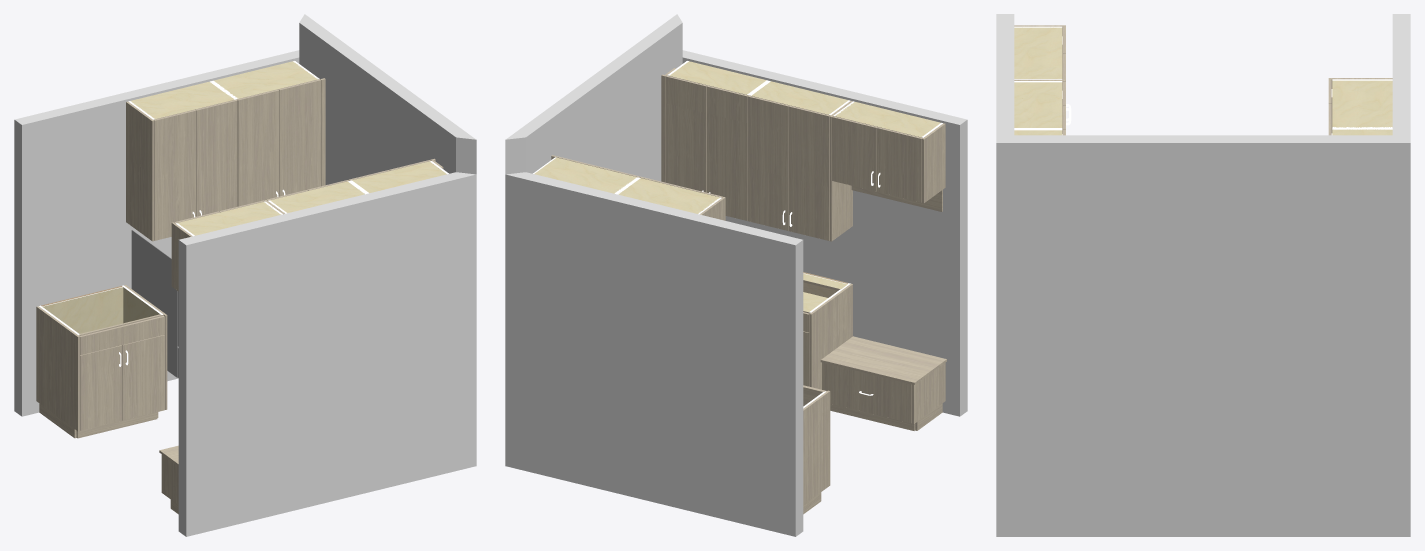
3 views of the same model, side by side, from view 1: azimuth 30°, elevation 25°; view 2: azimuth 150°, elevation 25°; view 3: azimuth 270°, elevation 25° (orthographic). The views are drawn at different scales.
Parts seen in each view (by area): view 1: N_WALL-Sh8bf10af0_Wall_Wall_Room_184a, N_WALL-Sh8bf10a00_Wall_Wall_Room_1a, N_WALL-Sh8bf12620_Wall_Wall_Room_183a, N_S_DSLAB-Sh80b18180_Door_Door_158b, N_S_DSLAB-Sh80b14220_Door_Door_105b, N_S_DSLAB-Sh80b1fd00_Door_Door_171b, N_S_DSLAB-Sh80b18db0_Door_Door_118b, N_LF-Sh80b1aaf0_Base_Cabinet_Assembly_9b, N_S_APPLIANCE-Sh96dc83f0_Appliance_WasherDryer_Room_66a, N_LF-Sh80b1d1f0_Upper_Cabinet_Assembly_133b, N_S_DSLAB-Sh80b13e10_Door_Door_41b, N_S_DSLAB-Sh80b15c20_Door_Door_54b (+11 smaller); view 2: N_WALL-Sh8bf10a00_Wall_Wall_Room_1a, N_WALL-Sh8bf10af0_Wall_Wall_Room_184a, N_WALL-Sh8bf12620_Wall_Wall_Room_183a, N_S_DSLAB-Sh80b3b080_Door_Door_523b, N_S_DSLAB-Sh80b387e0_Door_Door_510b, N_S_DSLAB-Sh80b34950_Door_Door_470b, N_S_DSLAB-Sh80b2d5f0_Door_Door_457b, N_S_DSLAB-Sh80b2f8e0_Door_Door_389b, N_TO-Sh7bd992a0_Base_Cabinet_Assembly_426b, N_S_DSLAB-Sh80b27d60_Door_Door_349b, N_S_DSLAB-Sh80b2dc70_Door_Door_362b, N_LF-Sh80b1aaf0_Base_Cabinet_Assembly_9b (+11 smaller); view 3: N_WALL-Sh8bf12620_Wall_Wall_Room_183a, N_TO-Sh80b1d050_Upper_Cabinet_Assembly_142a, N_TO-Sh80b35cd0_Upper_Cabinet_Assembly_338a, N_WALL-Sh8bf10a00_Wall_Wall_Room_1a, N_WALL-Sh8bf10af0_Wall_Wall_Room_184a, N_TO-Sh80b44050_Upper_Cabinet_Assembly_494a.
Part boxes in pixels (x1,y1,x2,y2): N_WALL-Sh8bf10af0_Wall_Wall_Room_184a: [178, 172, 476, 536]; N_WALL-Sh8bf10a00_Wall_Wall_Room_1a: [14, 50, 299, 416]; N_WALL-Sh8bf12620_Wall_Wall_Room_183a: [299, 14, 476, 184]; N_S_DSLAB-Sh80b18180_Door_Door_158b: [155, 111, 195, 240]; N_S_DSLAB-Sh80b14220_Door_Door_105b: [238, 90, 279, 206]; N_S_DSLAB-Sh80b1fd00_Door_Door_171b: [196, 100, 237, 216]; N_S_DSLAB-Sh80b18db0_Door_Door_118b: [280, 80, 320, 196]; N_LF-Sh80b1aaf0_Base_Cabinet_Assembly_9b: [36, 306, 79, 431]; N_S_APPLIANCE-Sh96dc83f0_Appliance_WasherDryer_Room_66a: [131, 229, 178, 377]; N_LF-Sh80b1d1f0_Upper_Cabinet_Assembly_133b: [126, 101, 154, 240]; N_S_DSLAB-Sh80b13e10_Door_Door_41b: [80, 345, 122, 430]; N_S_DSLAB-Sh80b15c20_Door_Door_54b: [123, 335, 164, 420]; N_WALL-Sh8bf10a00_Wall_Wall_Room_1a: [505, 172, 803, 536]; N_WALL-Sh8bf10af0_Wall_Wall_Room_184a: [682, 50, 967, 416]; N_WALL-Sh8bf12620_Wall_Wall_Room_183a: [505, 14, 682, 181]; N_S_DSLAB-Sh80b3b080_Door_Door_523b: [788, 106, 828, 240]; N_S_DSLAB-Sh80b387e0_Door_Door_510b: [748, 96, 787, 230]; N_S_DSLAB-Sh80b34950_Door_Door_470b: [707, 86, 747, 220]; N_S_DSLAB-Sh80b2d5f0_Door_Door_457b: [666, 76, 706, 192]; N_S_DSLAB-Sh80b2f8e0_Door_Door_389b: [822, 362, 911, 423]; N_TO-Sh7bd992a0_Base_Cabinet_Assembly_426b: [820, 336, 946, 384]; N_S_DSLAB-Sh80b27d60_Door_Door_349b: [832, 117, 876, 191]; N_S_DSLAB-Sh80b2dc70_Door_Door_362b: [877, 128, 921, 202]; N_LF-Sh80b1aaf0_Base_Cabinet_Assembly_9b: [803, 390, 830, 504]; N_WALL-Sh8bf12620_Wall_Wall_Room_183a: [996, 135, 1410, 536]; N_TO-Sh80b1d050_Upper_Cabinet_Assembly_142a: [1332, 80, 1392, 127]; N_TO-Sh80b35cd0_Upper_Cabinet_Assembly_338a: [1014, 27, 1062, 78]; N_WALL-Sh8bf10a00_Wall_Wall_Room_1a: [1392, 14, 1410, 142]; N_WALL-Sh8bf10af0_Wall_Wall_Room_184a: [996, 14, 1014, 142]; N_TO-Sh80b44050_Upper_Cabinet_Assembly_494a: [1014, 82, 1062, 127].
Bounding box in the file's own units: 100 × 108 × 103.
